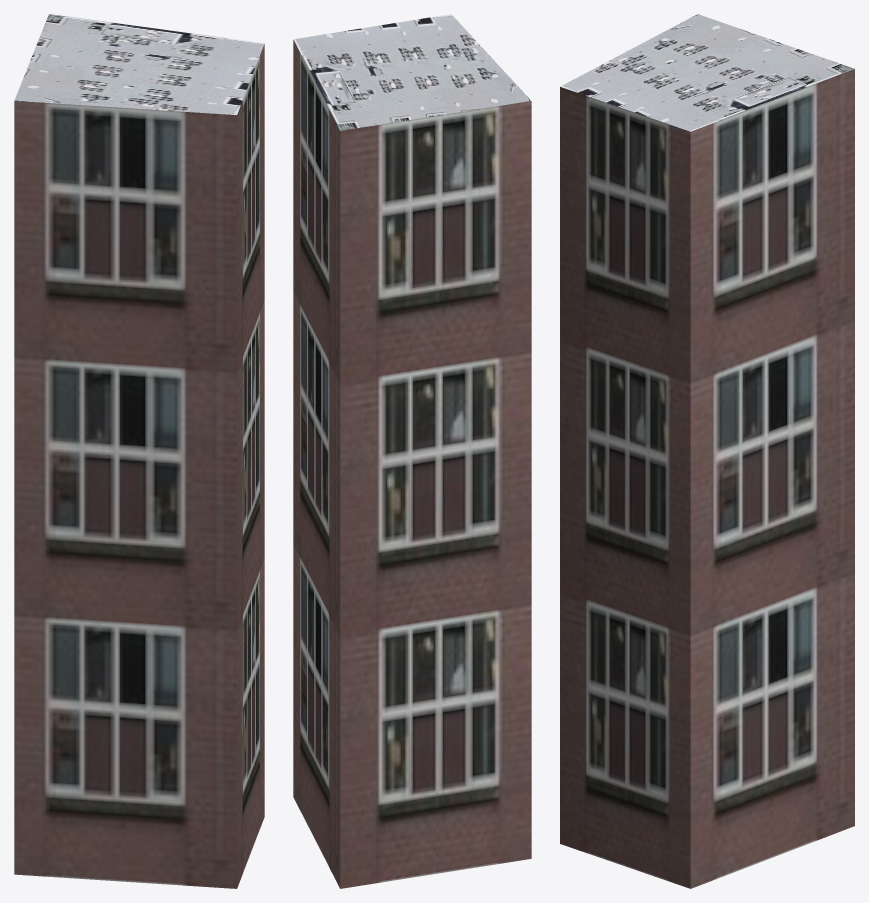
The model's file is ResTex__1164.fbx.
The picture shows the model from 3 angles, left to right: view 1: azimuth 30°, elevation 25°; view 2: azimuth 150°, elevation 25°; view 3: azimuth 270°, elevation 25°; orthographic projection. The views are drawn at different scales.
Visible parts, largest first — view 1: CityEngineMaterial_12_m, CityEngineMaterial_8_m; view 2: CityEngineMaterial_12_m, CityEngineMaterial_8_m; view 3: CityEngineMaterial_12_m, CityEngineMaterial_8_m.
Boxes of the visible parts, left/top/right/bottom form: CityEngineMaterial_12_m: left=14, top=44, right=264, bottom=888; CityEngineMaterial_8_m: left=14, top=14, right=264, bottom=115; CityEngineMaterial_12_m: left=293, top=40, right=531, bottom=888; CityEngineMaterial_8_m: left=293, top=14, right=531, bottom=130; CityEngineMaterial_12_m: left=560, top=69, right=854, bottom=888; CityEngineMaterial_8_m: left=560, top=14, right=854, bottom=131.
Size of the model in its own units: 3 by 9 by 3.18.
Materials: 2 (2 with a texture image).
